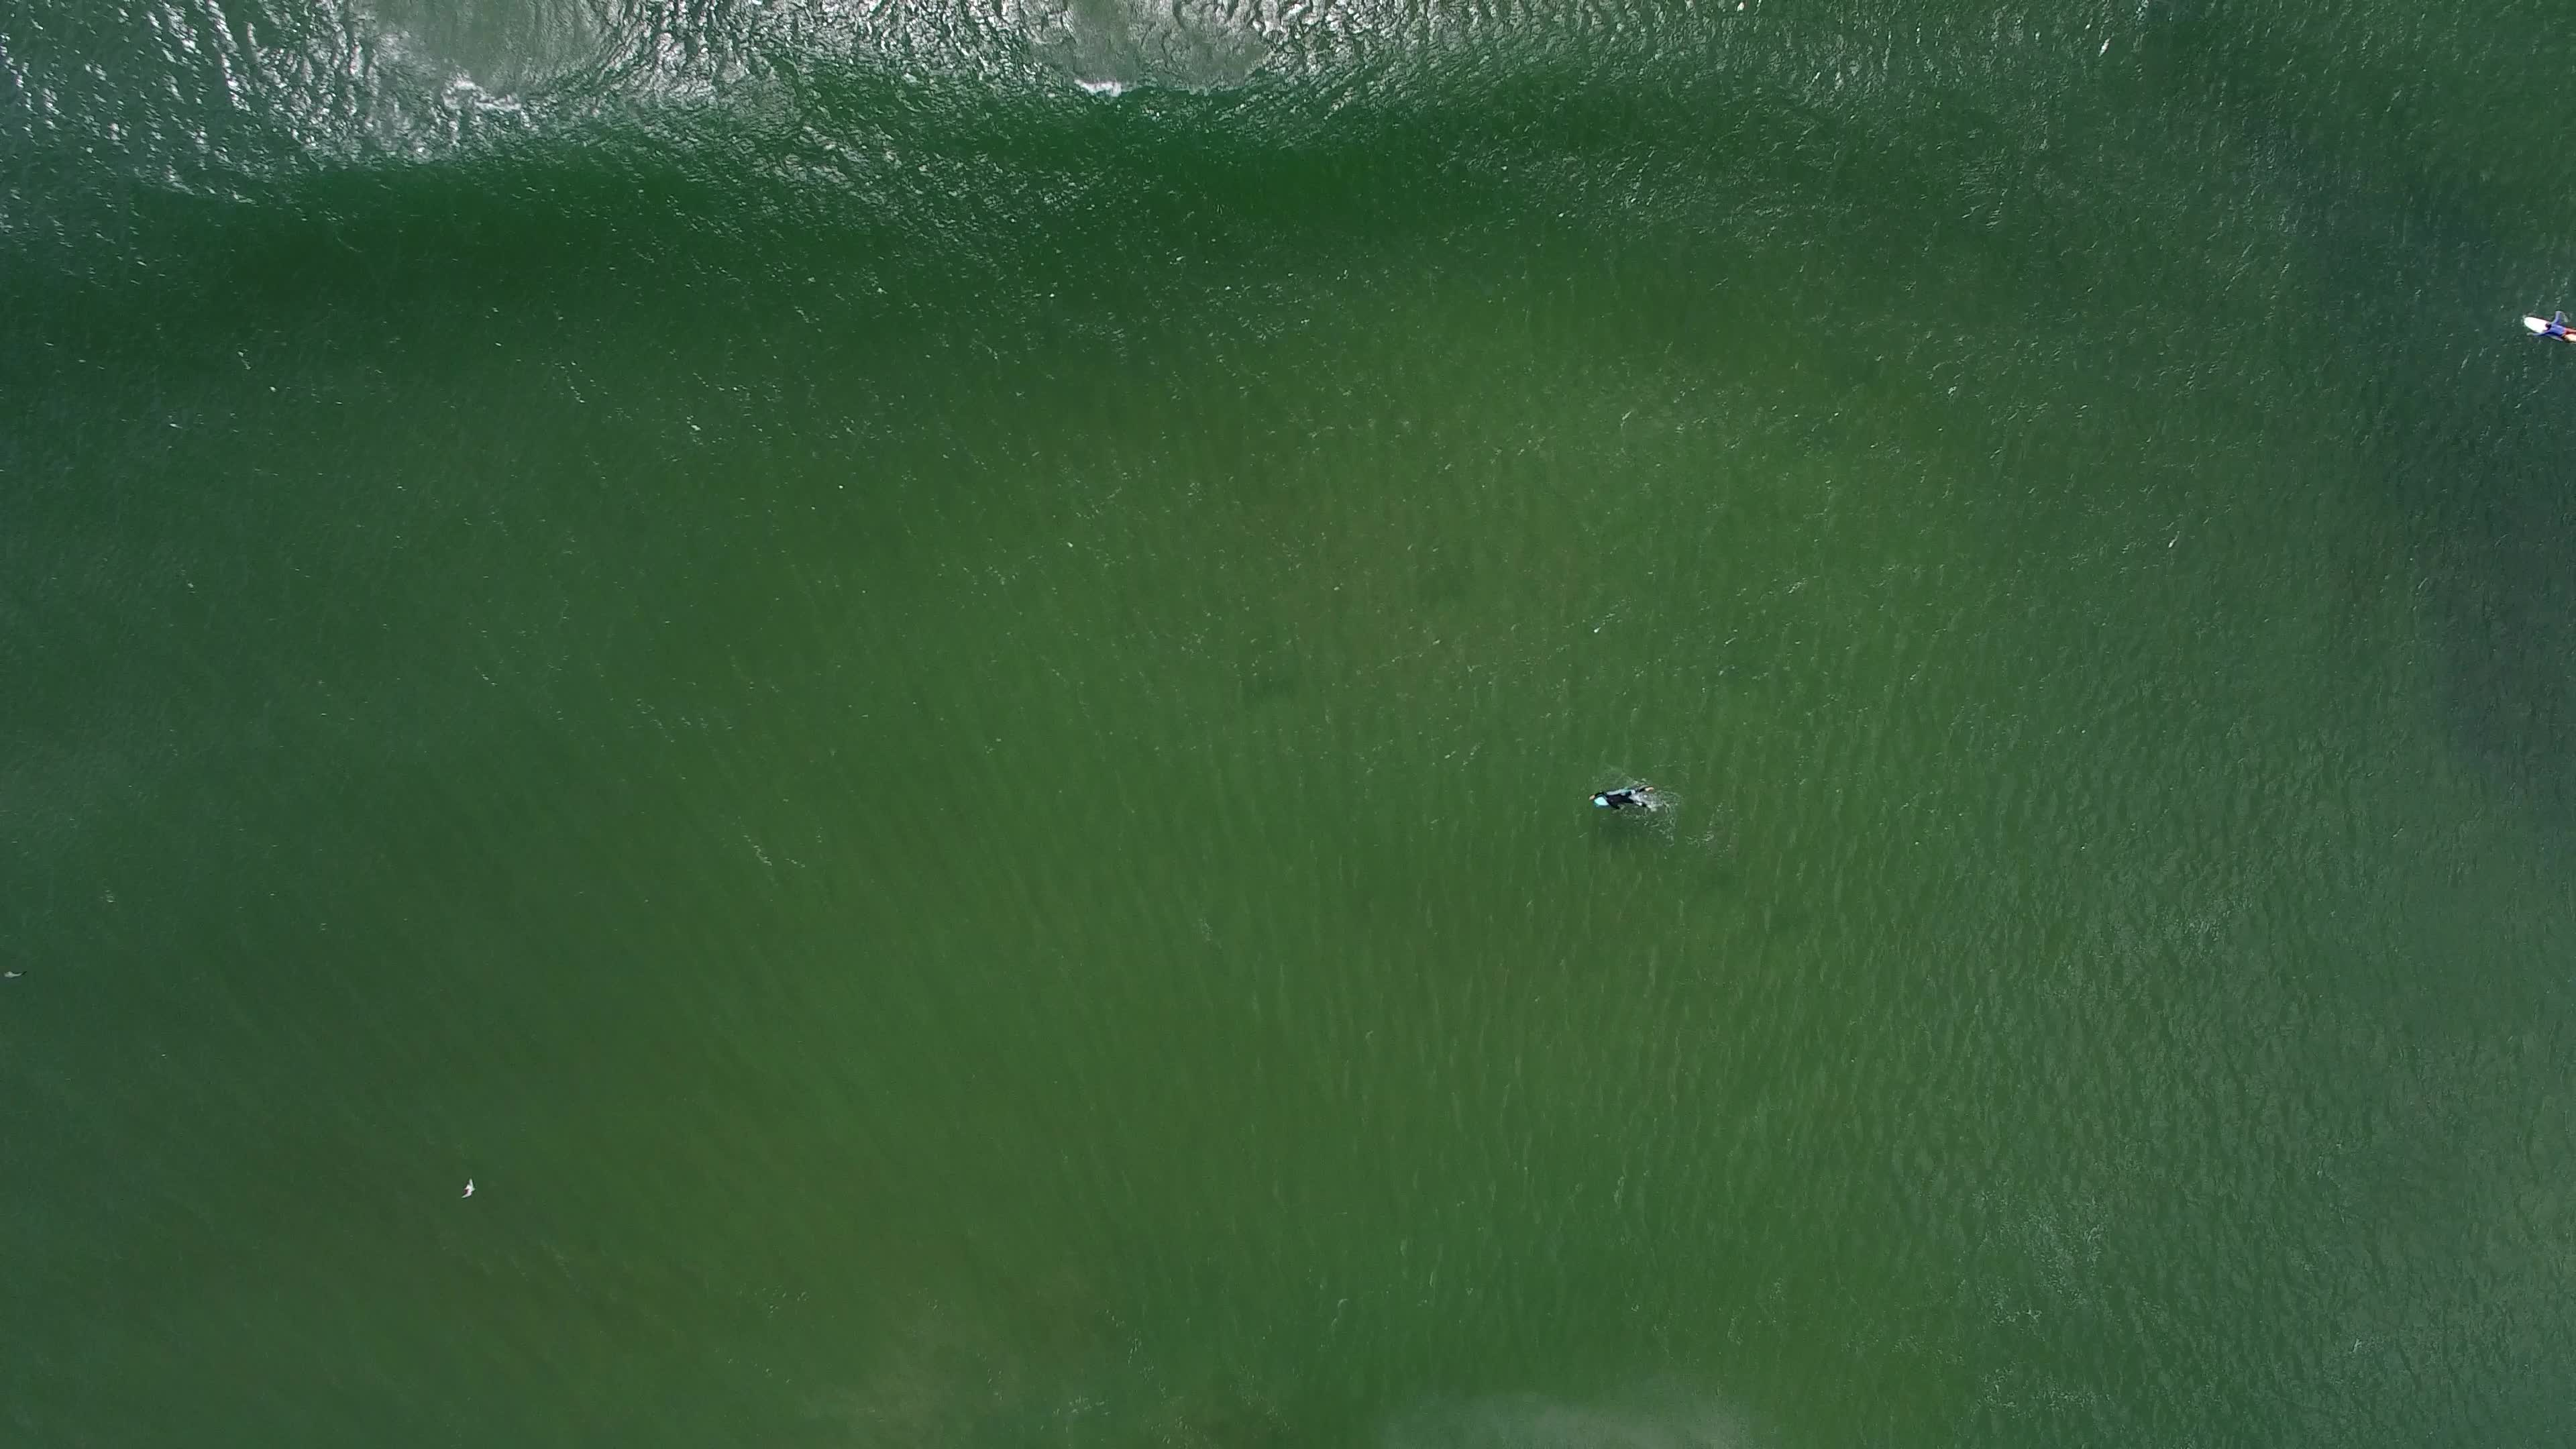surfer: (1580, 770, 1665, 830), (2512, 297, 2576, 349)
